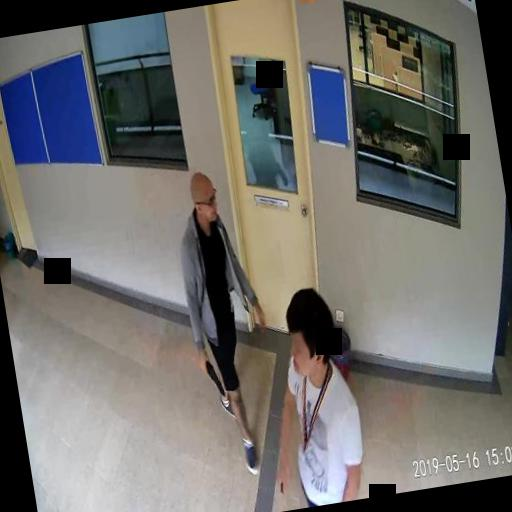Handgun: (198, 354, 223, 398)
